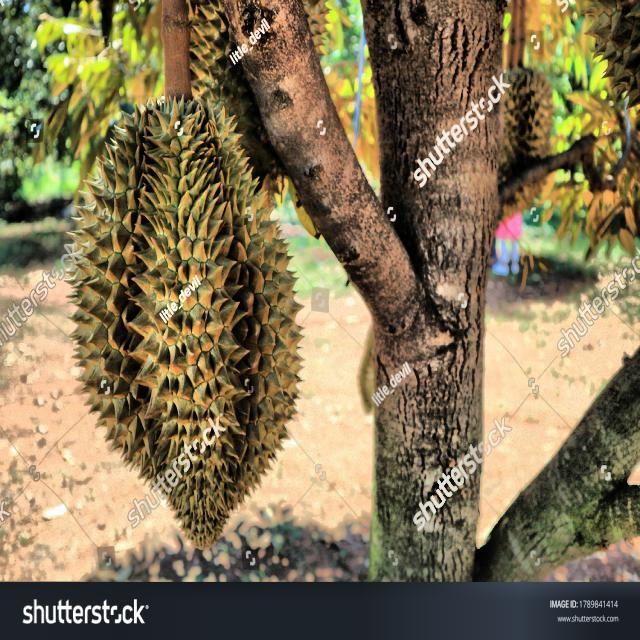arvore: (338, 0, 509, 581)
